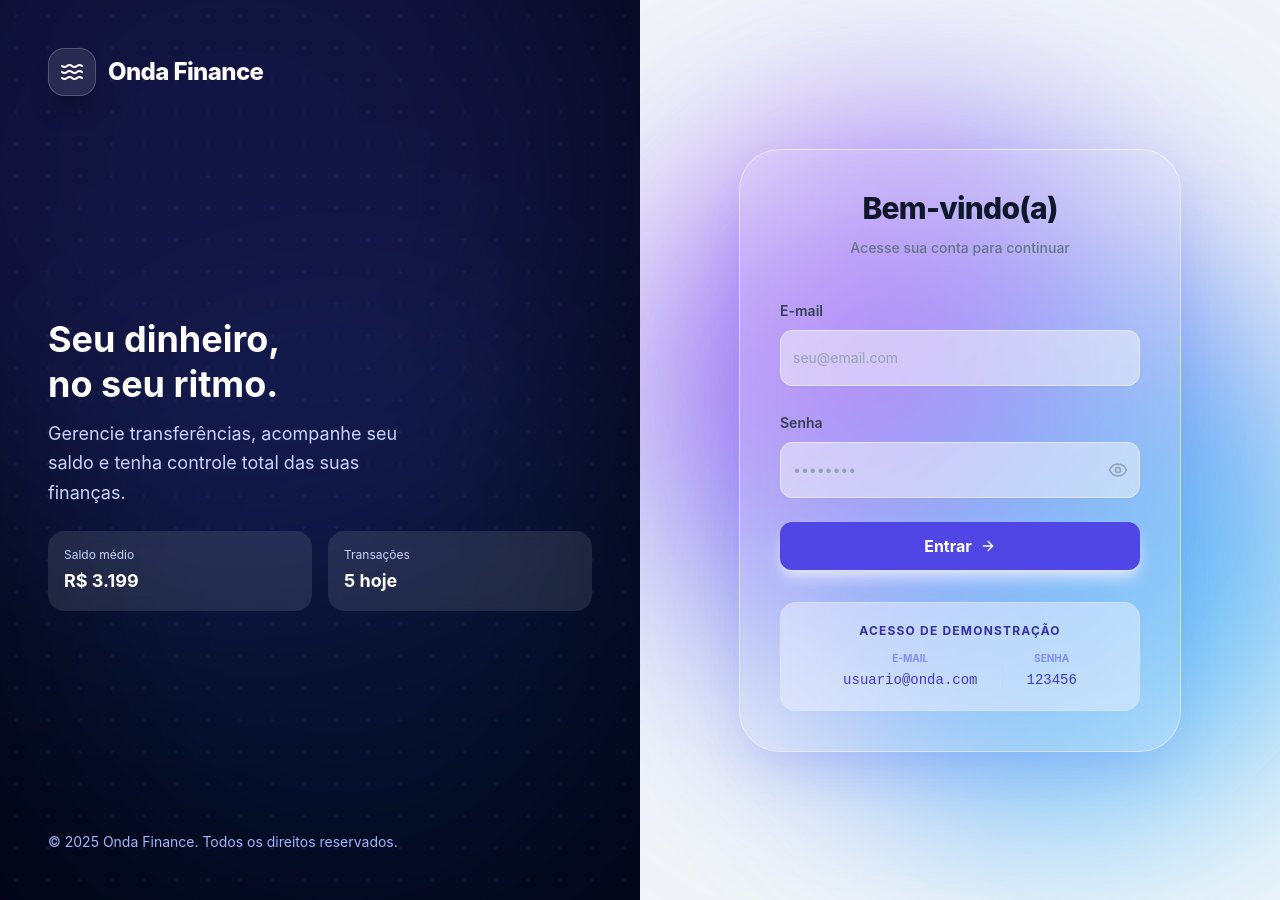
Test case: Fluxo de Login › exibe erro com credenciais incorretas
Type "errado@email.com" into the field with test id "email-input" at (960, 358), box [780,330,1140,386]
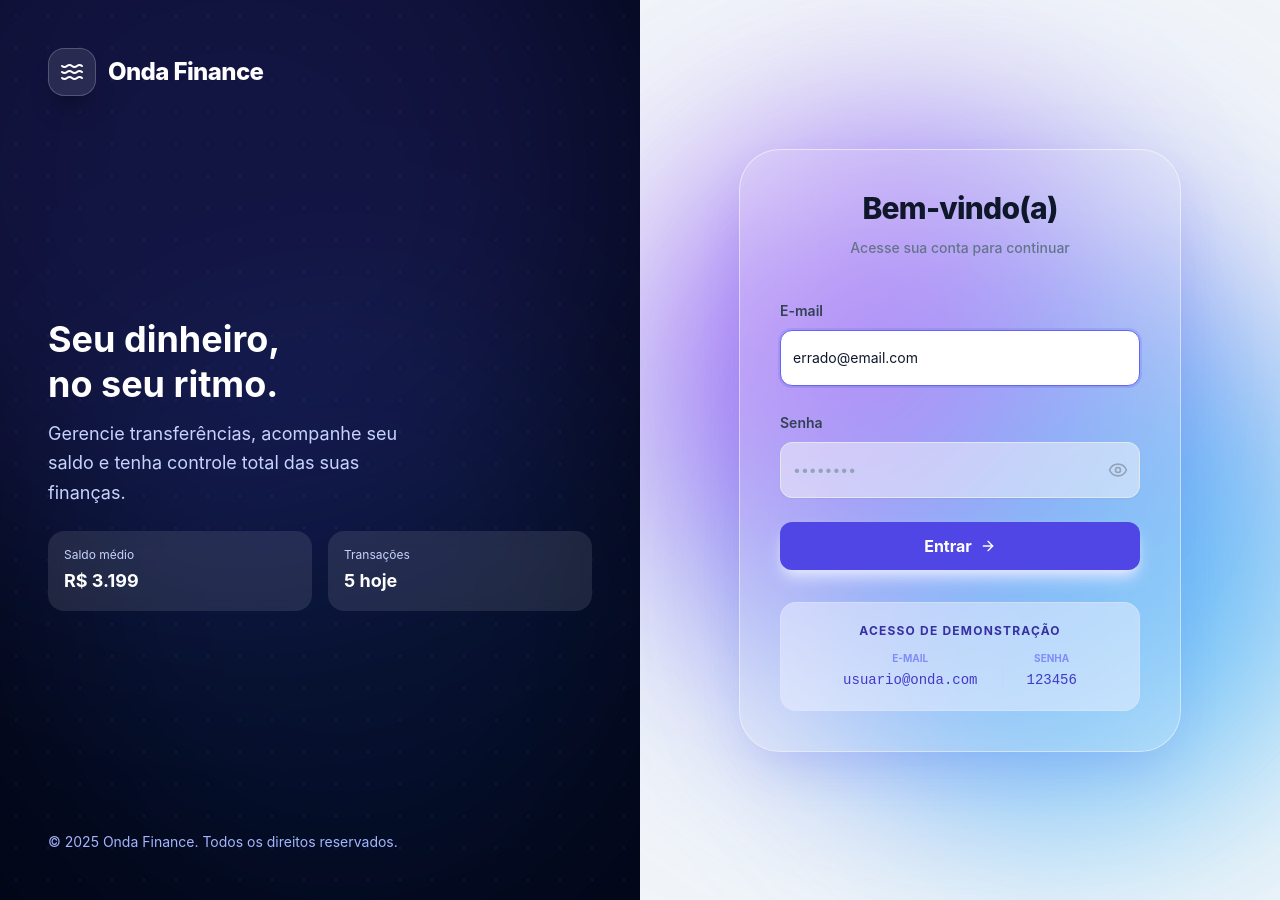
Type "senhaerrada" into the password field with test id "password-input" at (960, 470), box [780,442,1140,498]
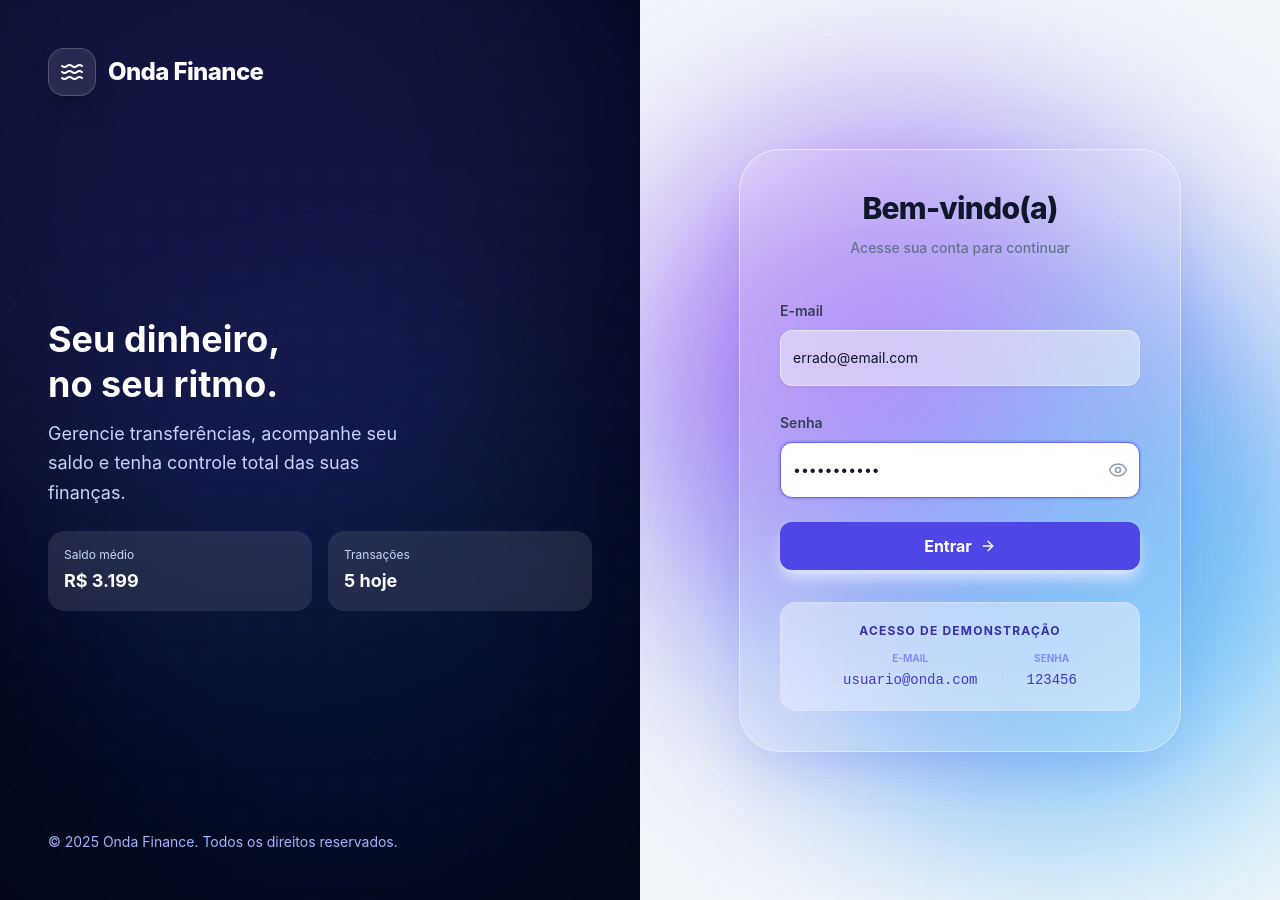
Click the button with test id "login-btn" at (960, 546), box [780,522,1140,570]
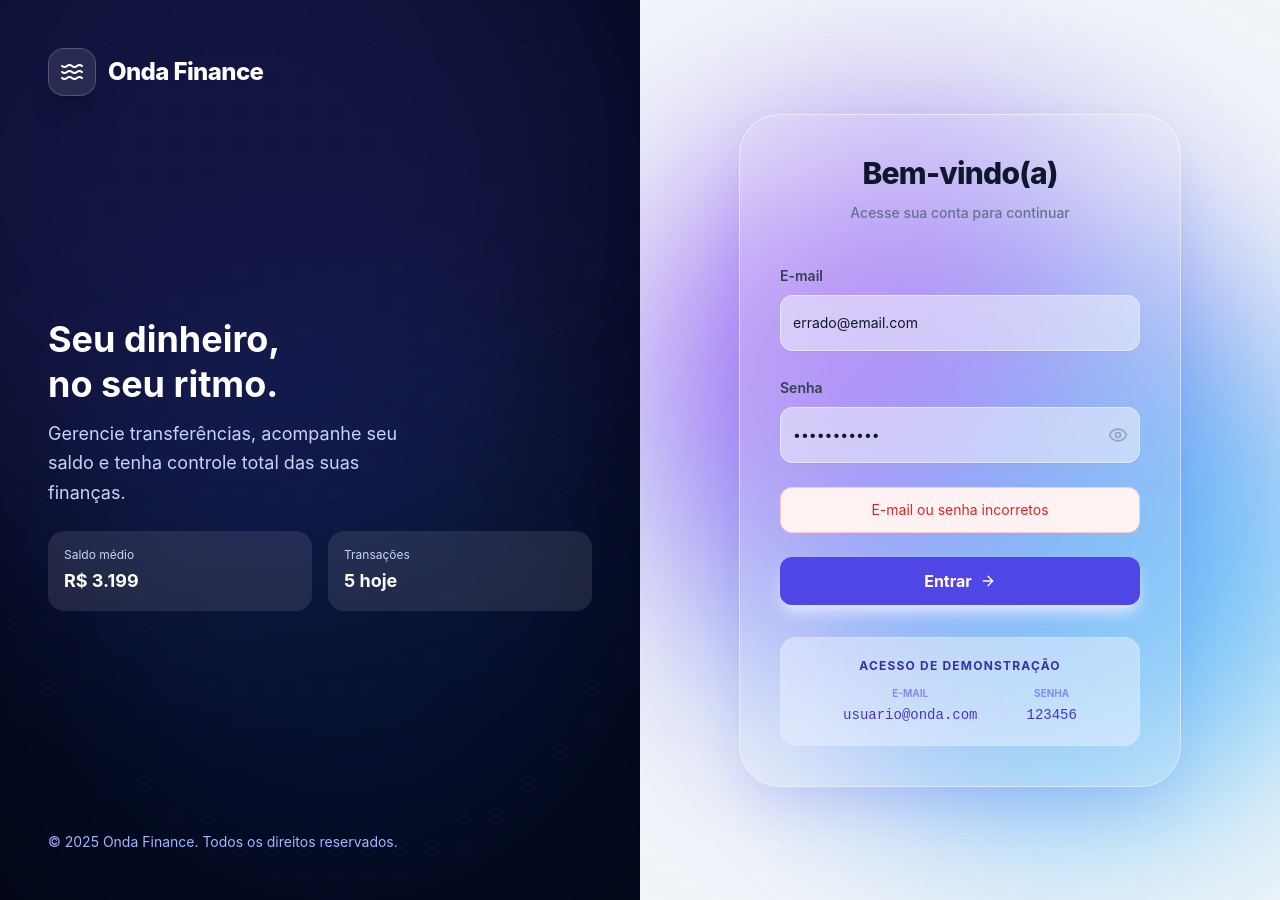
Now the text "E-mail ou senha incorretos" is shown, box [871,500,1049,518]
